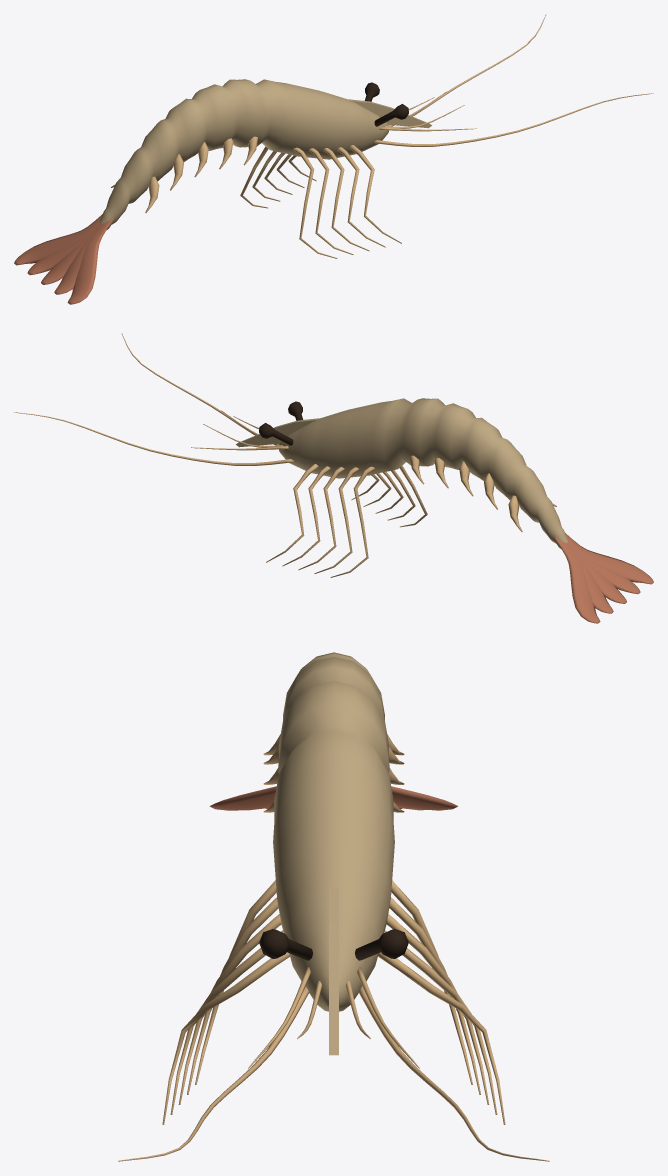
3 renders of one model, top to bottom at view 1: azimuth 30°, elevation 25°; view 2: azimuth 150°, elevation 25°; view 3: azimuth 270°, elevation 25°, orthographic. The views are drawn at different scales.
Visible parts, largest first — view 1: Body_continuous_segmented_shell, Tail_fan_blade_0, Tail_fan_blade_4, Antenna_long_L, Rostrum_dorsal_blade, Tail_fan_blade_3, Tail_fan_blade_1, Tail_fan_blade_2, Walking_leg_L1, Walking_leg_L2, Walking_leg_L3, Walking_leg_L5 (+1 smaller); view 2: Body_continuous_segmented_shell, Tail_fan_blade_4, Tail_fan_blade_0, Antenna_long_R, Rostrum_dorsal_blade, Tail_fan_blade_1, Tail_fan_blade_3, Tail_fan_blade_2, Walking_leg_R1, Walking_leg_R2, Walking_leg_R3, Walking_leg_R5 (+1 smaller); view 3: Body_continuous_segmented_shell, Rostrum_dorsal_blade, Walking_leg_L5, Walking_leg_R5, Antenna_long_L, Antenna_long_R, Walking_leg_L3, Walking_leg_R3, Eye_stalk_L, Eye_stalk_R, Walking_leg_L2, Walking_leg_R2 (+6 smaller).
Part boxes in pixels (box(x1,y1,x2,y2)): Body_continuous_segmented_shell: box(100, 79, 388, 230); Tail_fan_blade_0: box(67, 217, 113, 304); Tail_fan_blade_4: box(14, 214, 102, 265); Antenna_long_L: box(373, 93, 653, 146); Rostrum_dorsal_blade: box(349, 99, 431, 128); Tail_fan_blade_3: box(27, 222, 99, 275); Tail_fan_blade_1: box(54, 224, 101, 294); Tail_fan_blade_2: box(41, 224, 100, 284); Walking_leg_L1: box(293, 147, 337, 258); Walking_leg_L2: box(308, 148, 353, 254); Walking_leg_L3: box(323, 148, 369, 251); Walking_leg_L5: box(349, 145, 401, 243); Body_continuous_segmented_shell: box(279, 398, 567, 549); Tail_fan_blade_4: box(554, 536, 600, 623); Tail_fan_blade_0: box(565, 533, 653, 584); Antenna_long_R: box(14, 412, 293, 465); Rostrum_dorsal_blade: box(236, 418, 318, 447); Tail_fan_blade_1: box(568, 541, 640, 594); Tail_fan_blade_3: box(566, 543, 613, 613); Tail_fan_blade_2: box(567, 543, 626, 603); Walking_leg_R1: box(330, 466, 374, 577); Walking_leg_R2: box(314, 467, 358, 573); Walking_leg_R3: box(298, 467, 344, 570); Walking_leg_R5: box(266, 464, 318, 562); Body_continuous_segmented_shell: box(273, 652, 394, 1011); Rostrum_dorsal_blade: box(329, 887, 338, 1055); Walking_leg_L5: box(162, 952, 289, 1124); Walking_leg_R5: box(378, 952, 505, 1124); Antenna_long_L: box(118, 986, 309, 1161); Antenna_long_R: box(358, 986, 549, 1161); Walking_leg_L3: box(178, 914, 281, 1104); Walking_leg_R3: box(386, 914, 489, 1104); Eye_stalk_L: box(259, 929, 312, 960); Eye_stalk_R: box(355, 929, 408, 960); Walking_leg_L2: box(187, 897, 278, 1094); Walking_leg_R2: box(389, 897, 480, 1094).
Size of the model in its own units: 0.3172 by 0.0919 by 0.1062.
